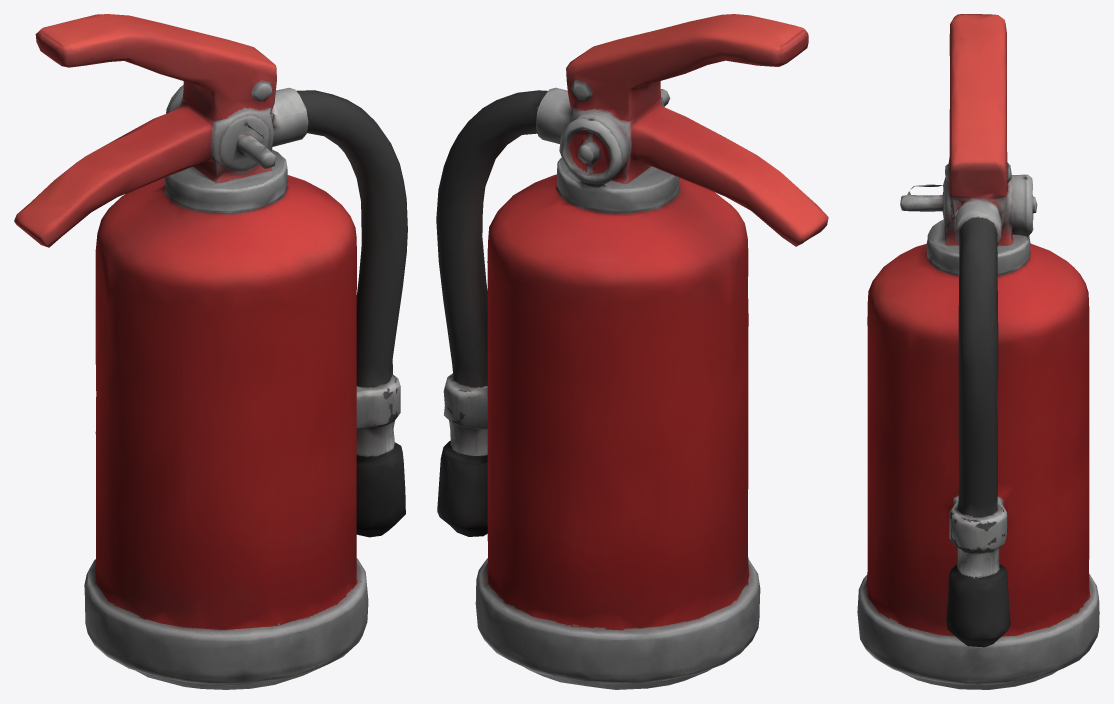
Rendered from serverroom_FireExtinguisher.glb.
The picture shows the model from 3 angles, left to right: view 1: azimuth 30°, elevation 25°; view 2: azimuth 150°, elevation 25°; view 3: azimuth 270°, elevation 25°; orthographic projection. The views are drawn at different scales.
Visible parts, largest first — view 1: world; view 2: world; view 3: world.
Boxes of the visible parts, bbox=[...] form: world: bbox=[14, 14, 407, 689]; world: bbox=[436, 14, 828, 689]; world: bbox=[857, 14, 1099, 689].
Bounding box in the file's own units: 0.6071 × 1 × 0.3884.
1 material, 1 textured.
